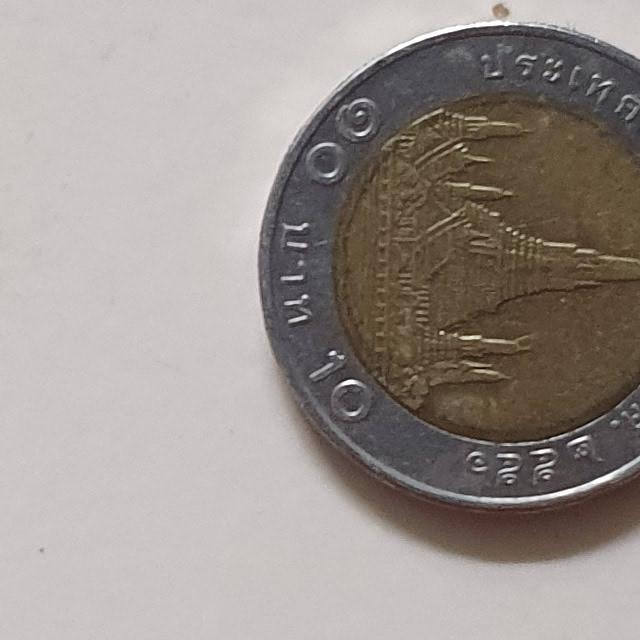10 Bath: (250, 17, 640, 525)
